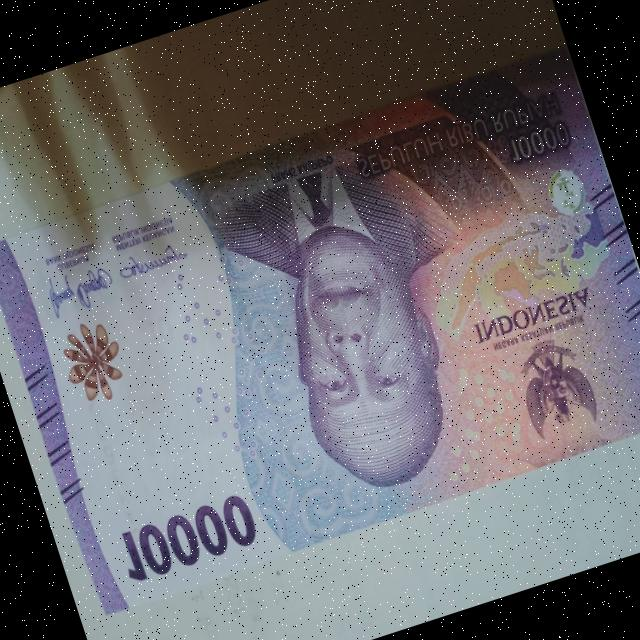10K: (0, 37, 640, 622)
